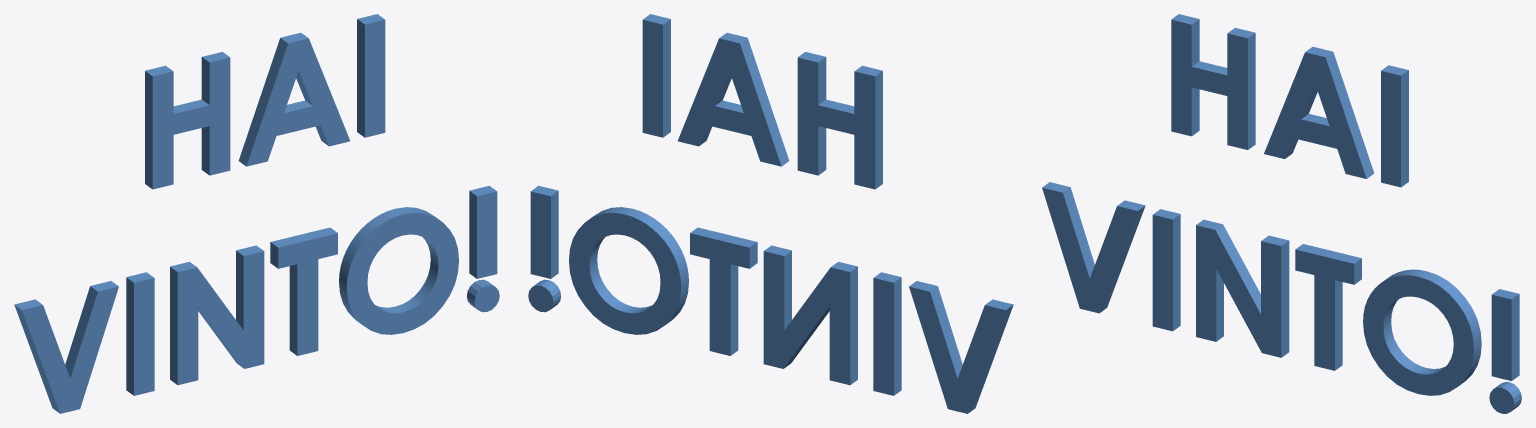
File: YouWon.fbx
The picture shows the model from 3 angles, left to right: view 1: azimuth 30°, elevation 25°; view 2: azimuth 150°, elevation 25°; view 3: azimuth 330°, elevation 25°; orthographic projection.
Parts seen in each view (by area): view 1: HAI_VINTO_1; view 2: HAI_VINTO_1; view 3: HAI_VINTO_1.
Boxes of the visible parts, <box> form: HAI_VINTO_1: <box>14,14,499,413</box>; HAI_VINTO_1: <box>528,14,1013,413</box>; HAI_VINTO_1: <box>1042,14,1521,413</box>.
Size of the model in its own units: 23.03 by 14.64 by 0.6528.
